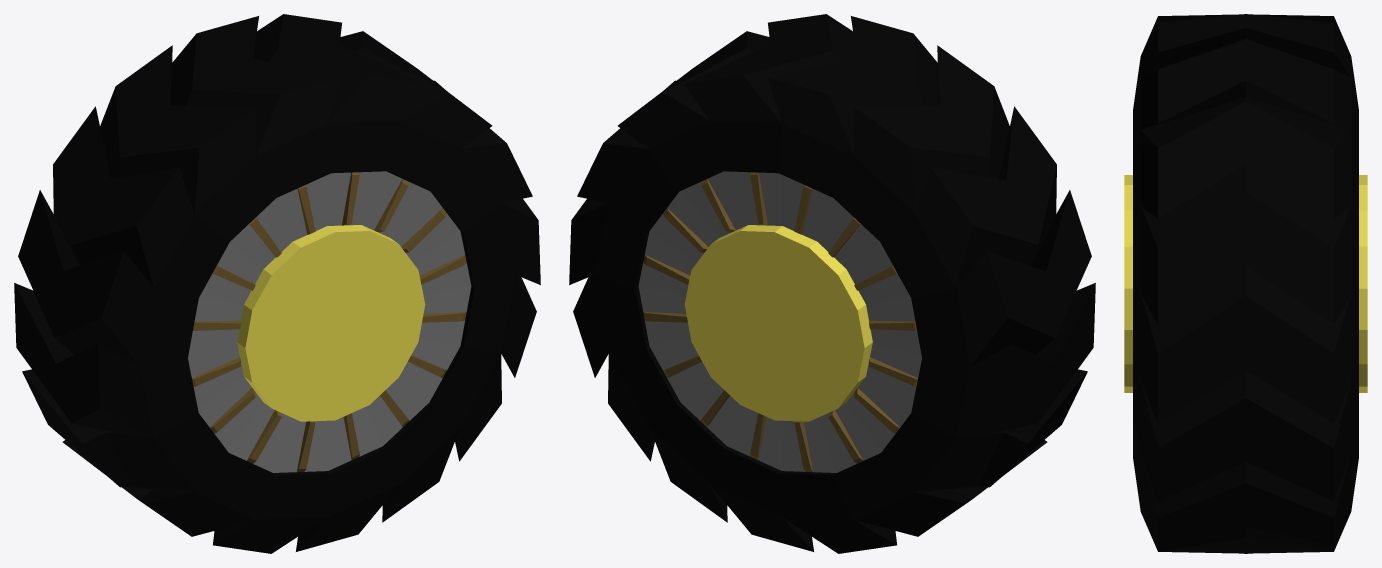
The model's file is SM_Tractor_Wheel_Small.fbx.
3 views of the same model, side by side, from view 1: azimuth 30°, elevation 25°; view 2: azimuth 150°, elevation 25°; view 3: azimuth 270°, elevation 25° (orthographic). The views are drawn at different scales.
Parts seen in each view (by area): view 1: Tractor Wheel Small; view 2: Tractor Wheel Small; view 3: Tractor Wheel Small.
Part boxes in pixels (left/top/right/bottom): Tractor Wheel Small: left=14, top=14, right=540, bottom=553; Tractor Wheel Small: left=569, top=14, right=1095, bottom=553; Tractor Wheel Small: left=1124, top=14, right=1367, bottom=553.
Size of the model in its own units: 229 by 229 by 103.
